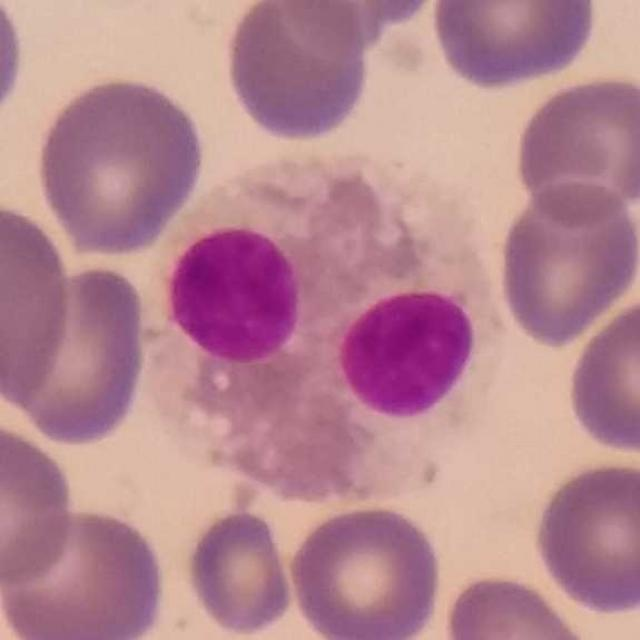eosino: (136, 133, 520, 508)
